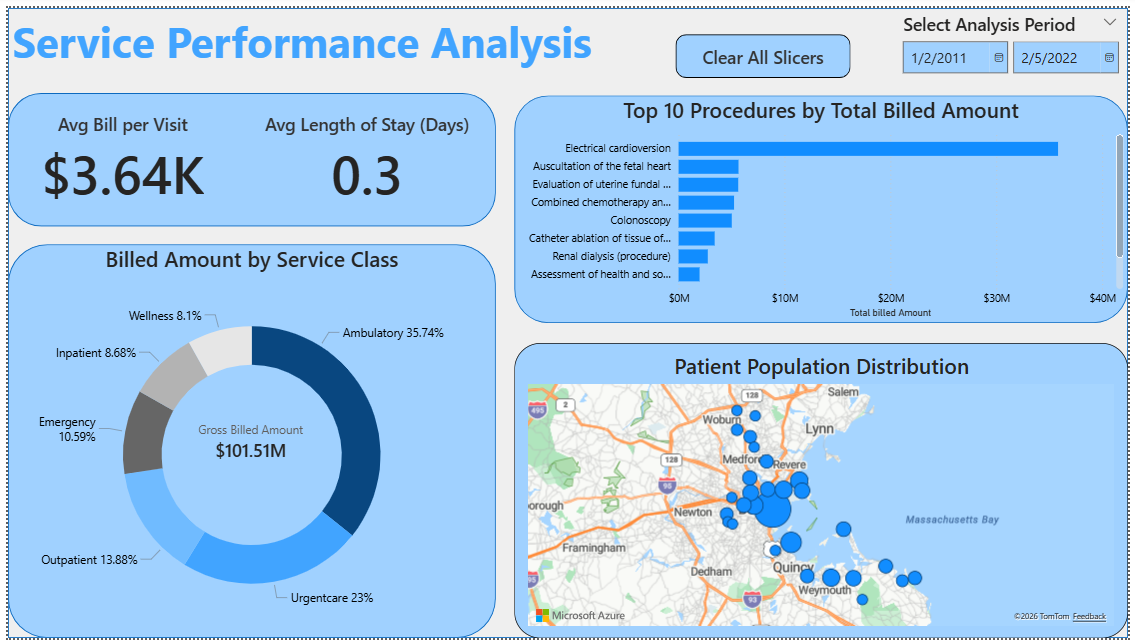

The dashboard page shown, as its layout file describes it:
{"tool":"powerbi","page":{"name":"Service","canvas":[1280,720],"ordinal":1},"visuals":[{"type":"shape","box":[0,0,1280,720],"z":0},{"type":"shape","box":[0,270,557.5,450],"z":0,"group":"g1"},{"type":"group","id":"g1","title":"Background","box":[0,97.5,1280,622.5],"z":1000},{"type":"shape","box":[578.8,100,701.2,260],"z":1000,"group":"g1"},{"type":"shape","box":[0,97.5,557.5,152.5],"z":2000,"group":"g1"},{"type":"donutChart","title":"Billed Amount by Service Class","fields":{"Category":["encounters.ENCOUNTERCLASS"],"Y":["encounters.total_claims"]},"box":[0,270,557.5,450],"z":2000},{"type":"clusteredBarChart","title":"Top 10 Procedures by Total Billed Amount","fields":{"Category":["procedures.DESCRIPTION"],"Y":["Sum(procedures.BASE_COST)"]},"box":[578.8,100,701.2,260],"z":3000},{"type":"azureMap","title":"Patient Population Distribution","fields":{"Size":["Count(encounters.PATIENT)"],"X":["Avg(patients.LON)"],"Y":["Avg(patients.LAT)"],"Category":["patients.CITY"]},"box":[578.8,382.5,701.2,337.5],"z":4000},{"type":"cardVisual","fields":{"Data":["encounters.total_claims"]},"box":[175,418.8,206.2,153.8],"z":5000},{"type":"textbox","box":[0,0,683.8,80],"z":6000},{"type":"cardVisual","fields":{"Data":["encounters.avg_bill_per_visit"]},"box":[0,97.5,262.5,152.5],"z":7000},{"type":"cardVisual","fields":{"Data":["encounters.avg_length_of_stay"]},"box":[262.5,97.5,295,152.5],"z":8000},{"type":"slicer","fields":{"Values":["encounters.START"]},"box":[1010,0,270,151.2],"z":9000},{"type":"actionButton","box":[762.5,30,200,50],"z":10000}]}

Visuals, with their boxes in screenshot pixels (x1, y1, x2, y2), scaled from the page's 1280x720 canvas onto the 1135x644 screenshot:
shape: [0, 0, 1134, 643]
shape: [0, 242, 494, 643]
"Background" group: [0, 87, 1134, 643]
shape: [513, 89, 1134, 322]
shape: [0, 87, 494, 224]
"Billed Amount by Service Class" donutChart: [0, 242, 494, 643]
"Top 10 Procedures by Total Billed Amount" clusteredBarChart: [513, 89, 1134, 322]
"Patient Population Distribution" azureMap: [513, 342, 1134, 643]
cardVisual - encounters.total_claims: [155, 375, 338, 512]
textbox: [0, 0, 606, 72]
cardVisual - encounters.avg_bill_per_visit: [0, 87, 233, 224]
cardVisual - encounters.avg_length_of_stay: [233, 87, 494, 224]
slicer - encounters.START: [896, 0, 1134, 135]
actionButton: [676, 27, 853, 72]
